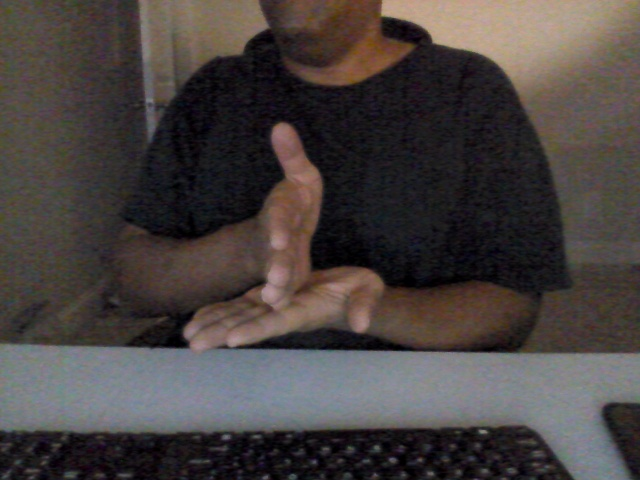stop: (178, 117, 387, 357)
